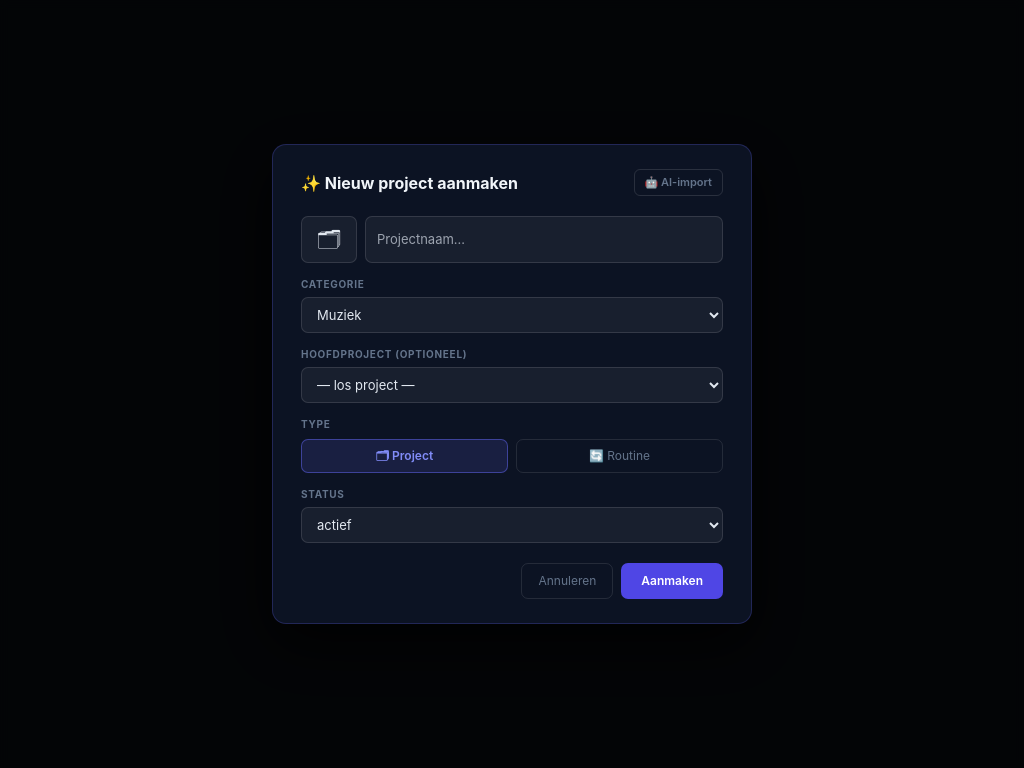
it: CreateProjectModal › shows error when insert fails
Type "Iets" into the field labelled "Projectnaam". click: (544, 239)
box: x1=365 y1=216 x2=723 y2=263
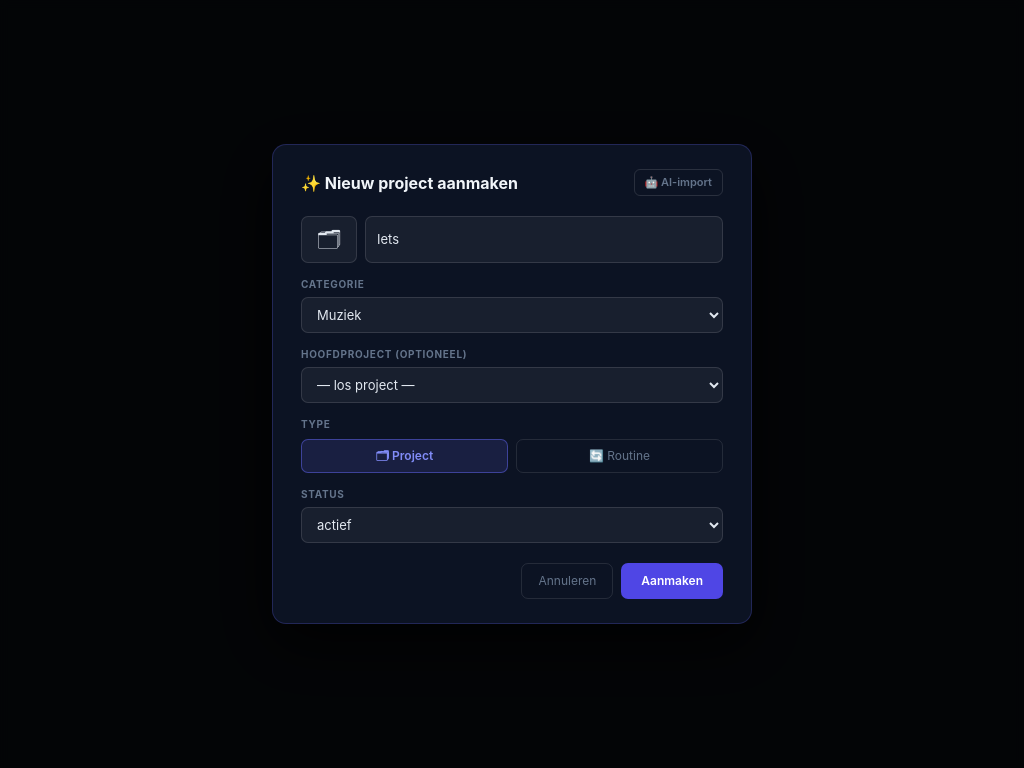
Submit the form "aanmaken", box x1=272 y1=144 x2=752 y2=624
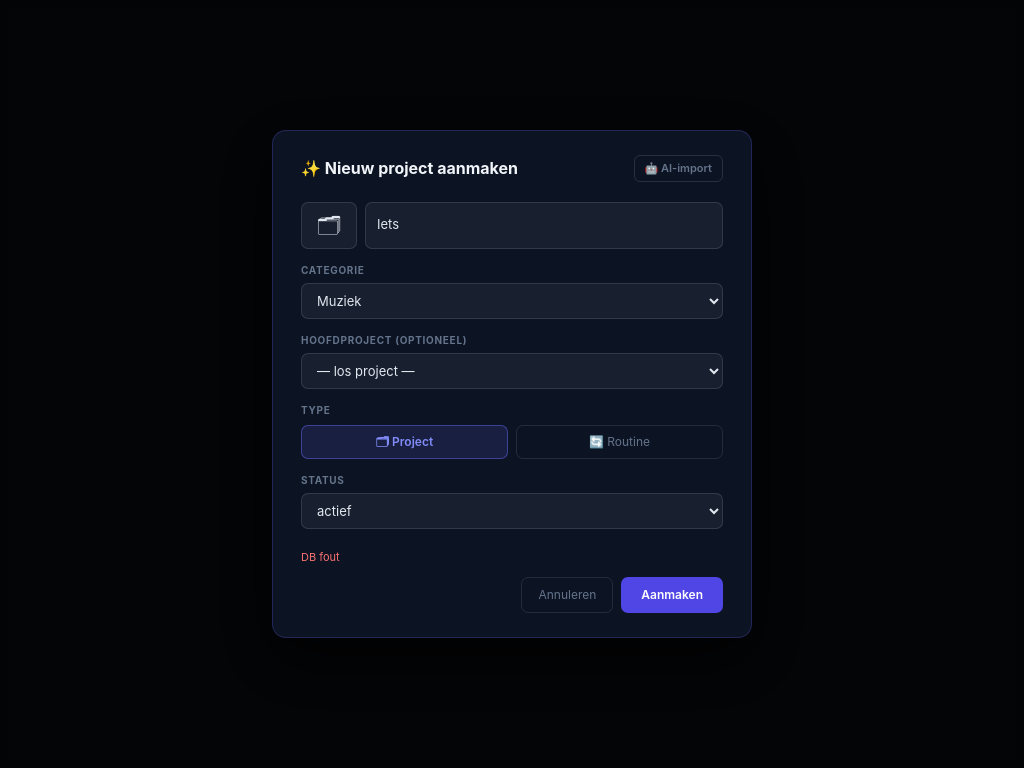
expect the message reads "DB fout": met, box x1=301 y1=550 x2=340 y2=564
